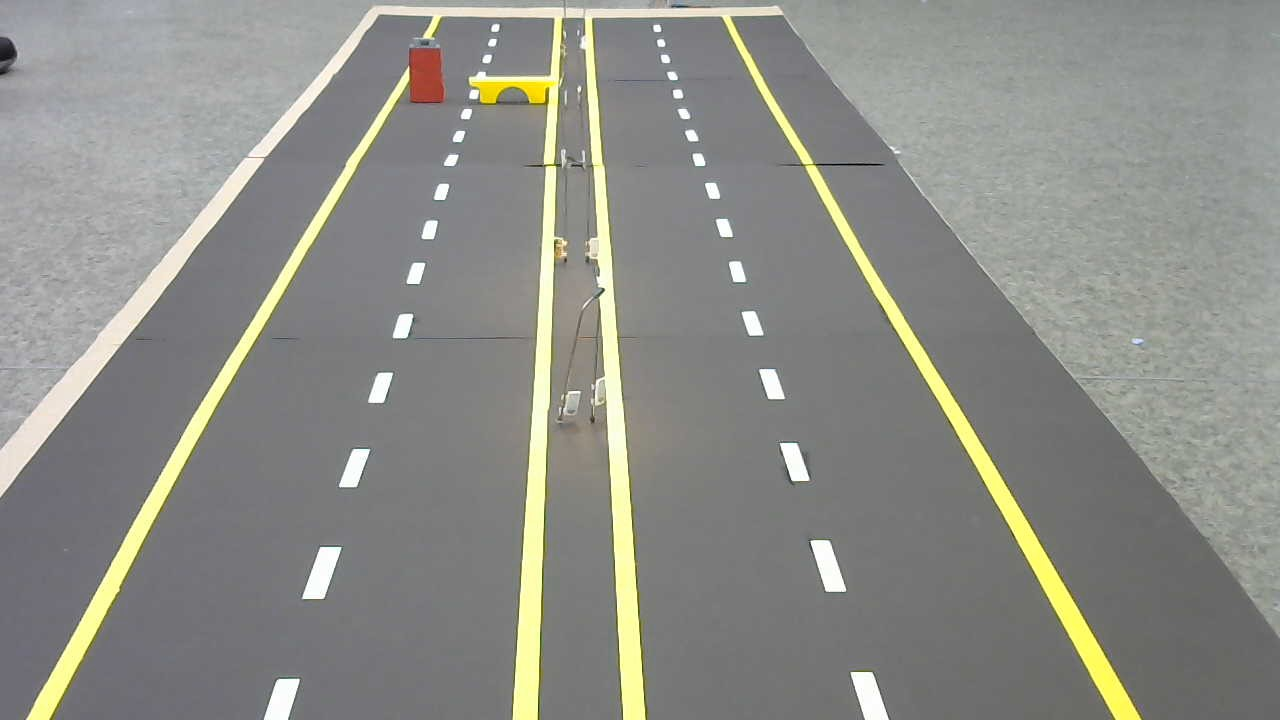accident: (406, 36, 447, 106)
emergency_situation: (468, 73, 559, 107)
